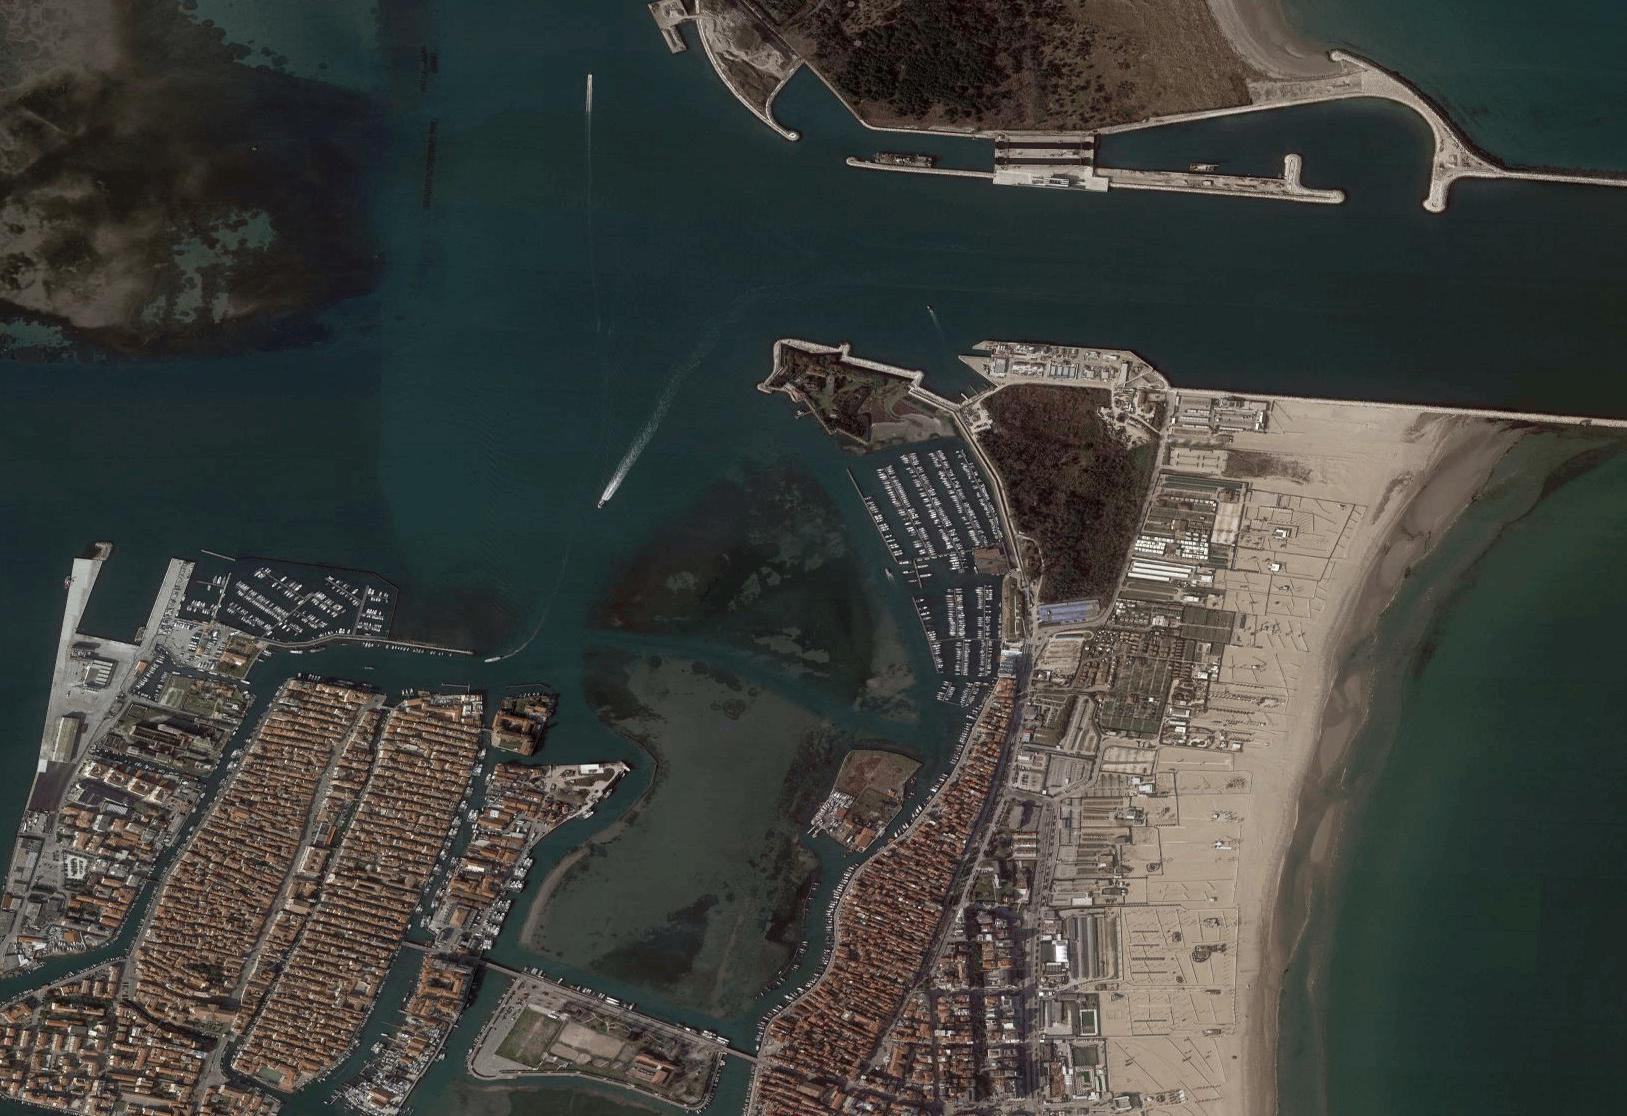harbor: (68, 325, 1040, 1102)
